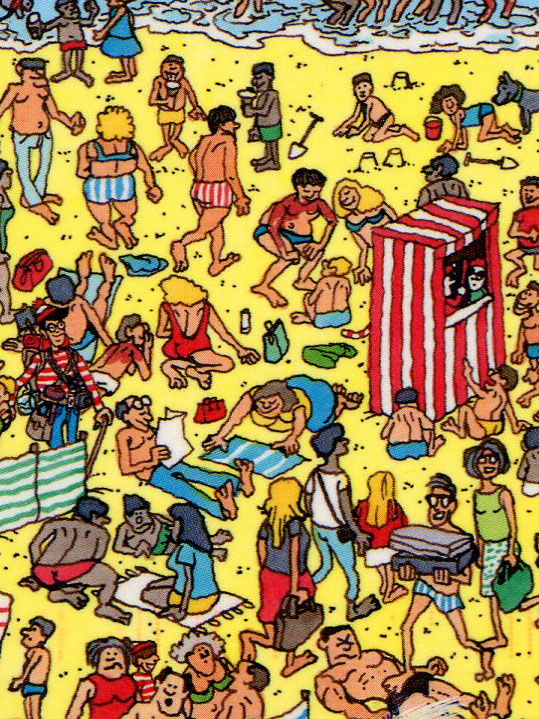waldo: (34, 299, 68, 348)
